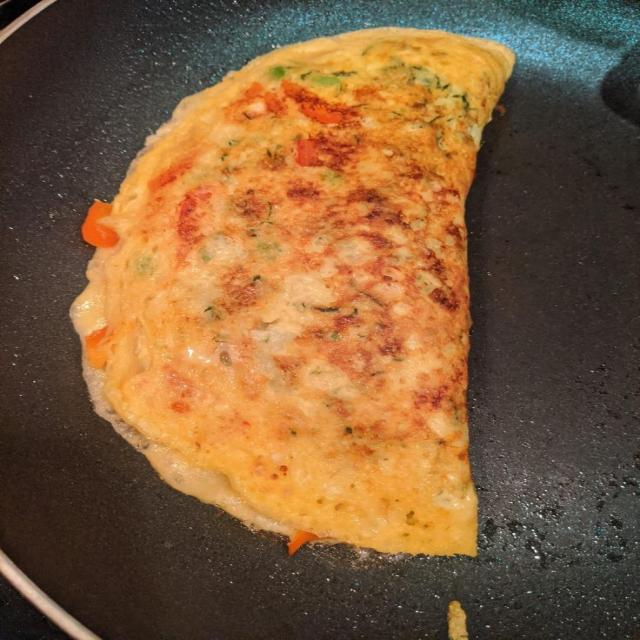omelette: (73, 29, 513, 554)
